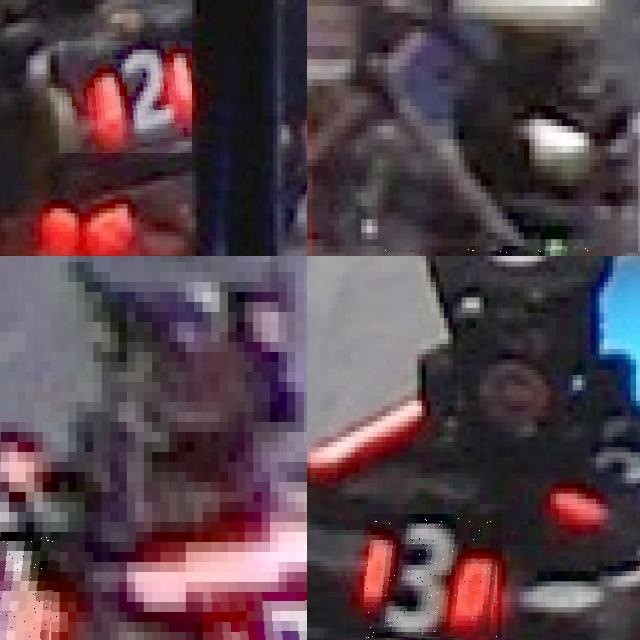R2: (59, 41, 192, 153)
R3: (364, 514, 502, 638), (0, 532, 59, 640), (202, 592, 307, 640)
